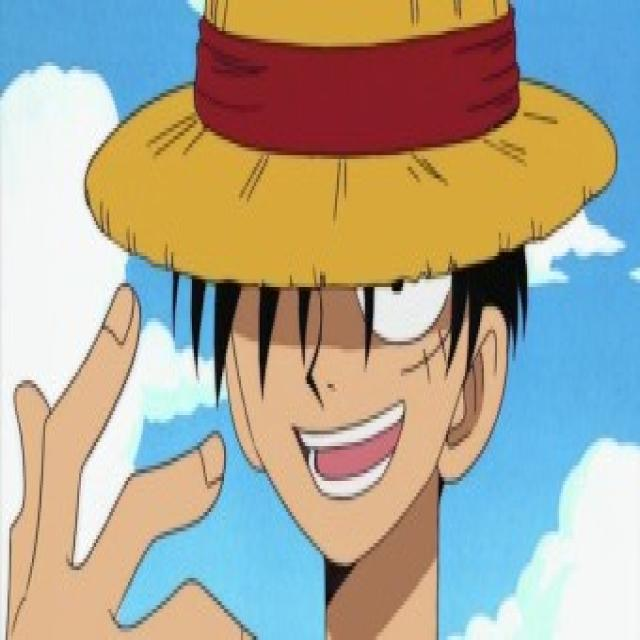Luffy: (66, 0, 555, 567)
